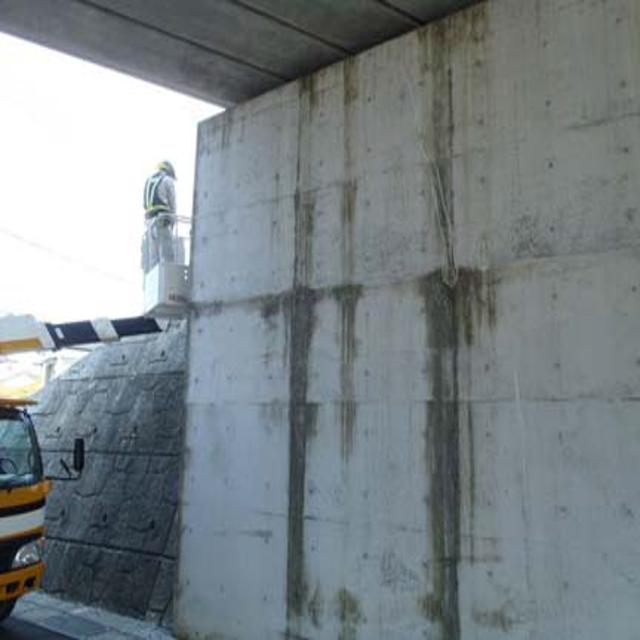leakage: (403, 6, 506, 637), (279, 59, 337, 638)
